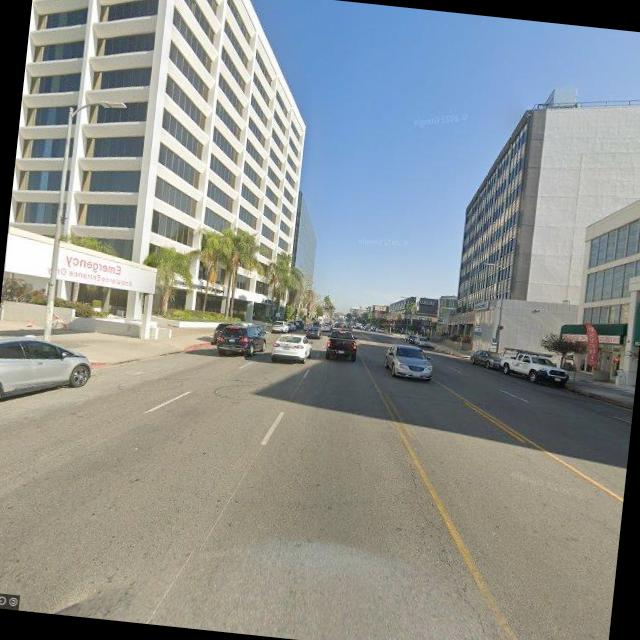pothole: (425, 540, 504, 640)
